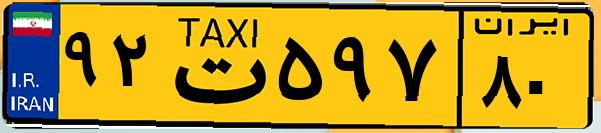0: (525, 38, 570, 115)
2: (110, 28, 158, 98)
5: (270, 28, 330, 110)
7: (385, 28, 445, 110)
8: (475, 38, 525, 113)
9: (330, 28, 385, 110), (57, 26, 110, 100)
ت: (158, 12, 270, 120)
